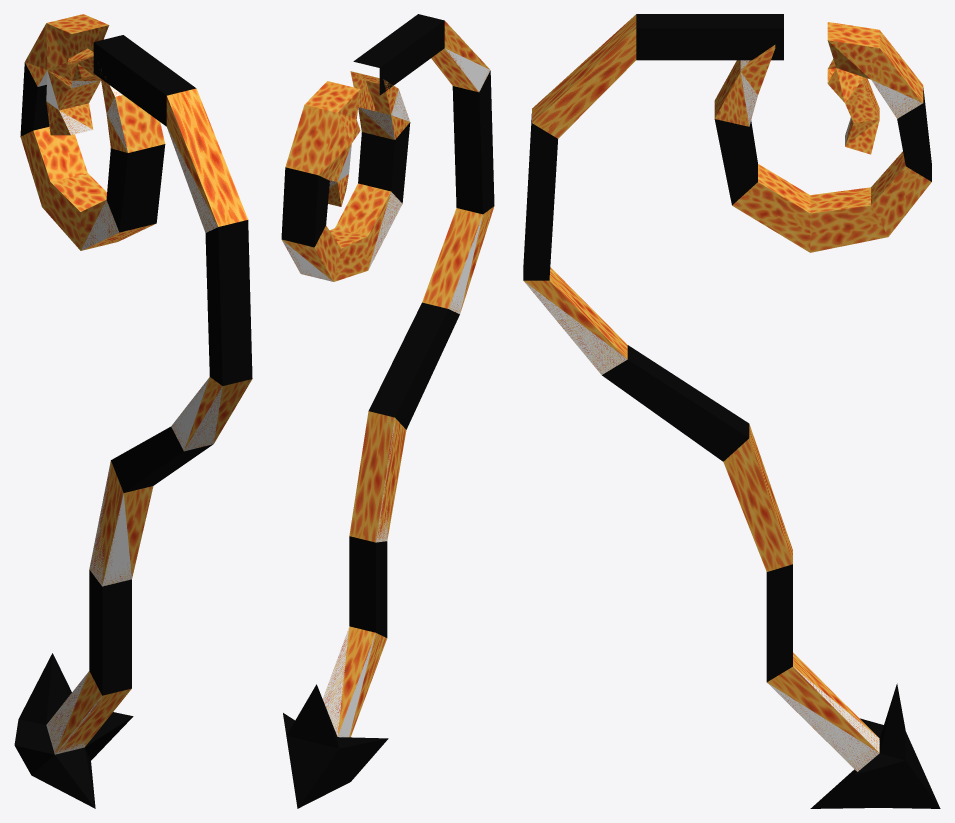
The picture shows the model from 3 angles, left to right: view 1: azimuth 30°, elevation 25°; view 2: azimuth 150°, elevation 25°; view 3: azimuth 270°, elevation 25°; orthographic projection. The views are drawn at different scales.
Bounding box in the file's own units: 16 × 100 × 48.
Materials: 2 (2 with a texture image).
